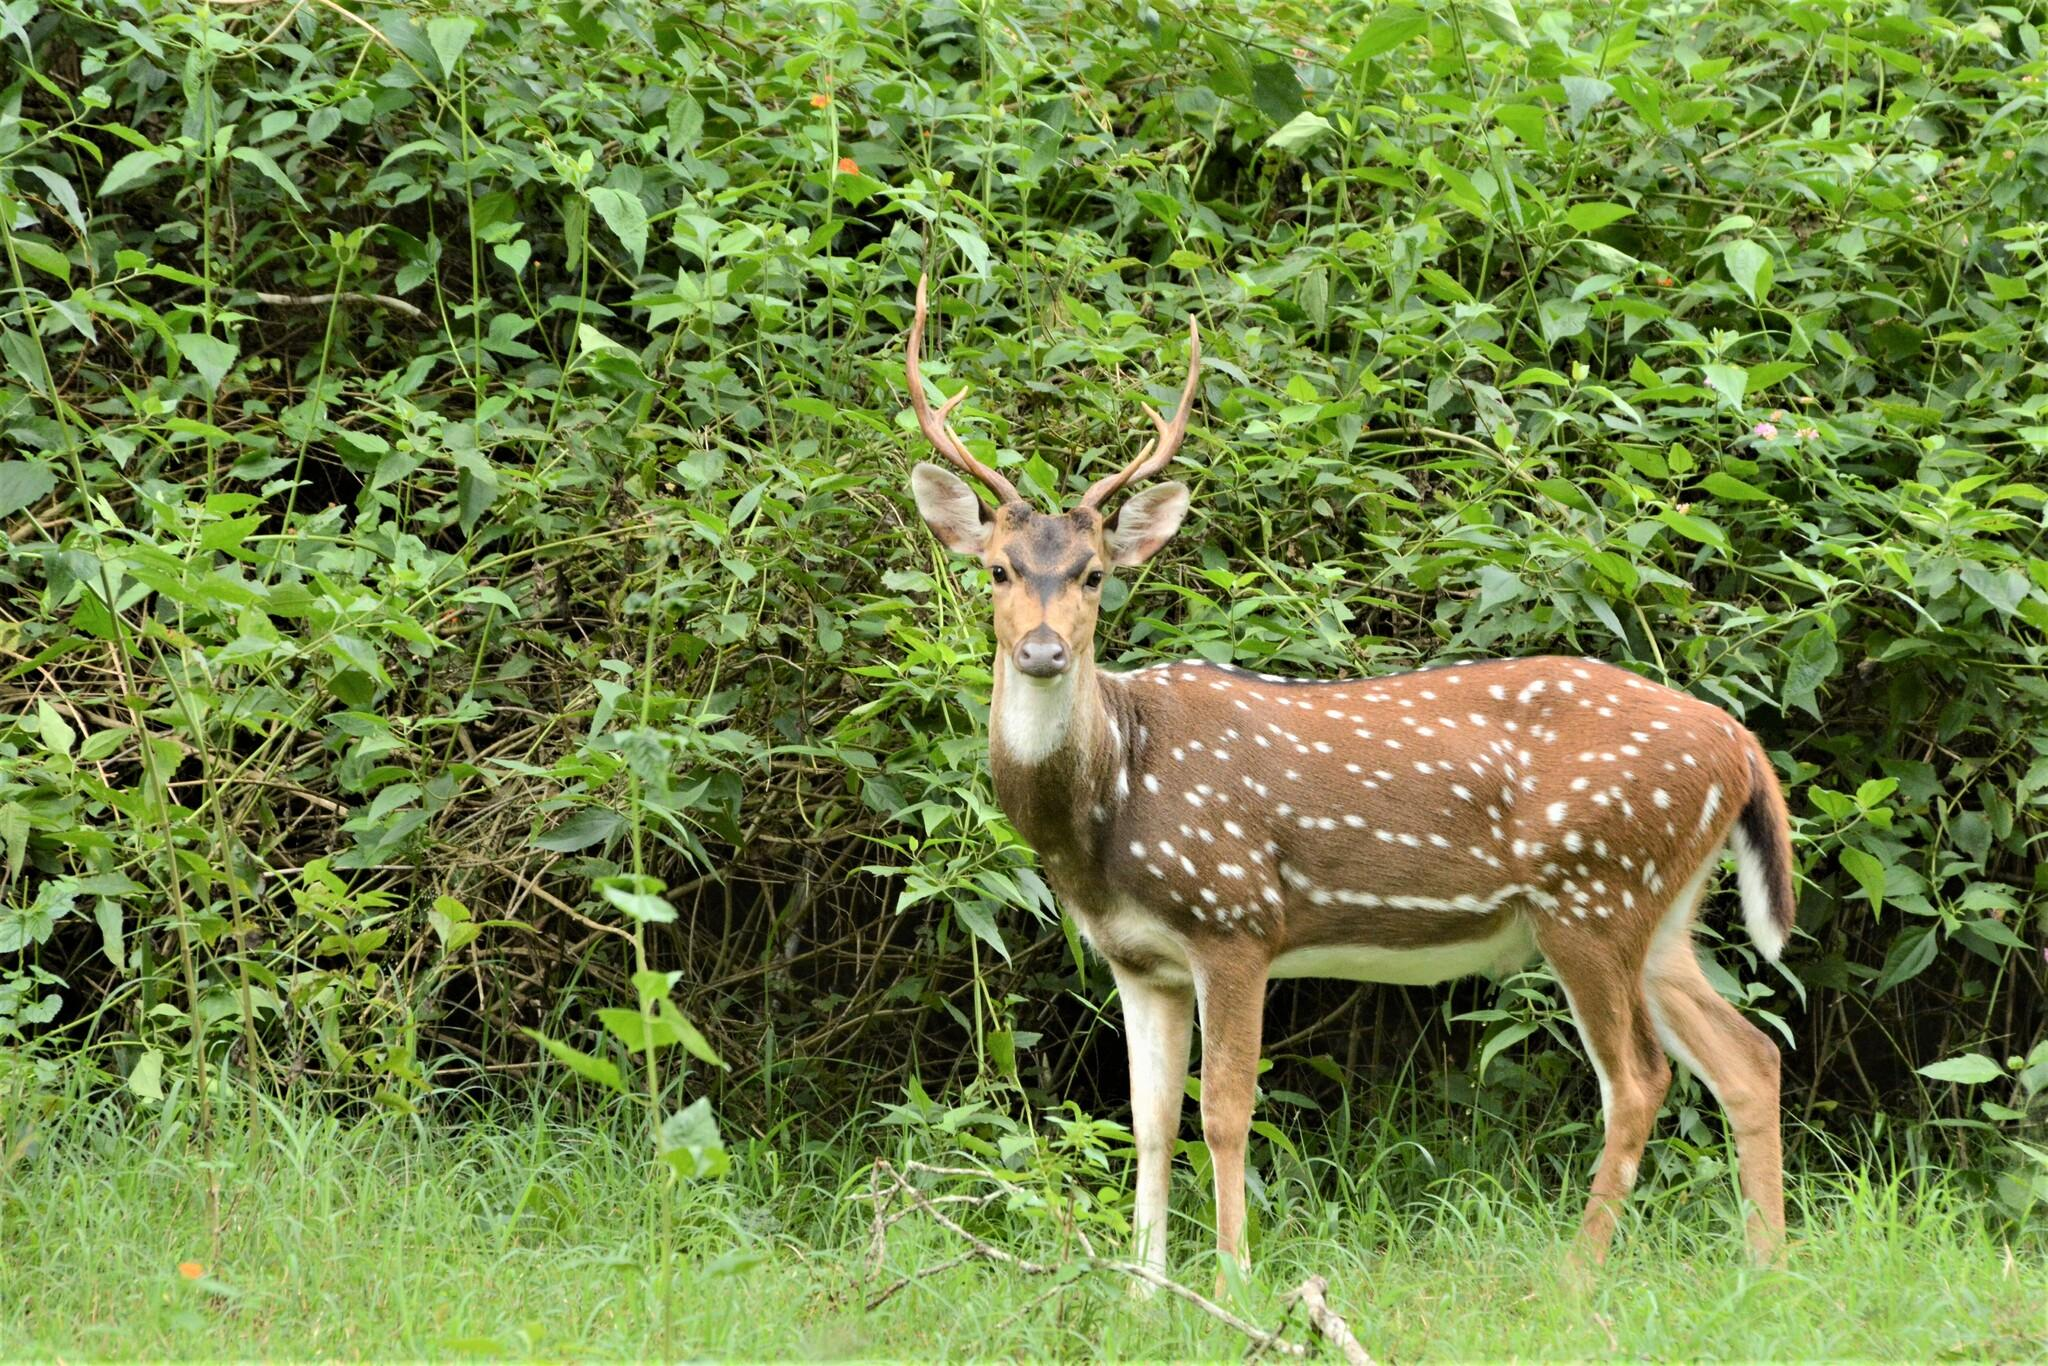Deer: (907, 277, 1792, 1278)
